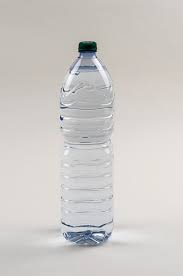bottle: (54, 40, 117, 252)
